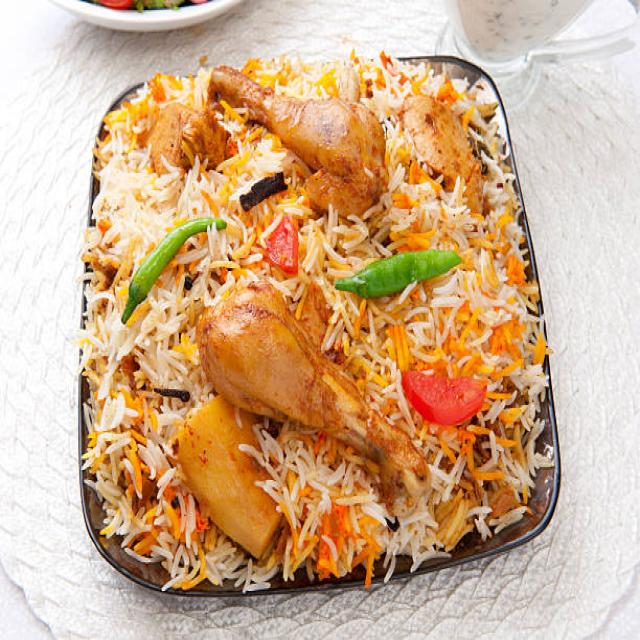BIRIYANI: (81, 50, 545, 584)
